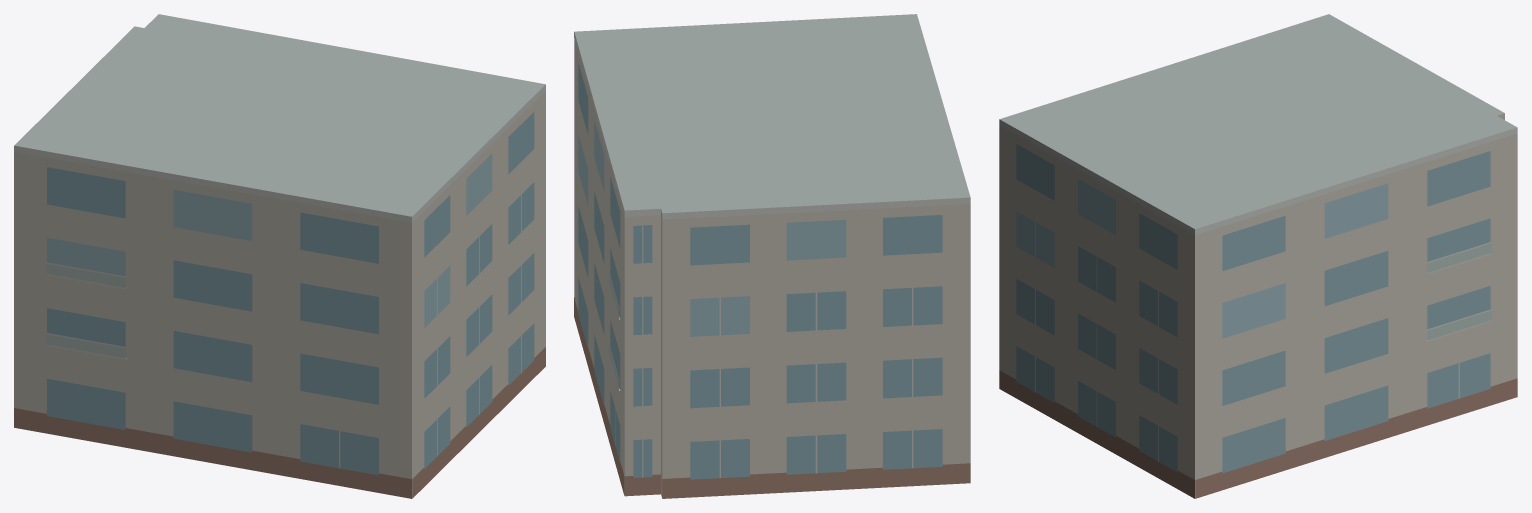
Rendered from survey-upis-32978489.glb.
3 renders of one model, left to right at view 1: azimuth 30°, elevation 25°; view 2: azimuth 150°, elevation 25°; view 3: azimuth 270°, elevation 25°, orthographic. The views are drawn at different scales.
Parts seen in each view (by area): view 1: survey-upis-32978489.tmp; view 2: survey-upis-32978489.tmp; view 3: survey-upis-32978489.tmp.
Boxes of the visible parts, x1,y1,x2,y2 form: survey-upis-32978489.tmp: (14, 14, 545, 498); survey-upis-32978489.tmp: (574, 14, 970, 498); survey-upis-32978489.tmp: (999, 14, 1517, 498).
Size of the model in its own units: 19.1 by 11.15 by 19.43.
